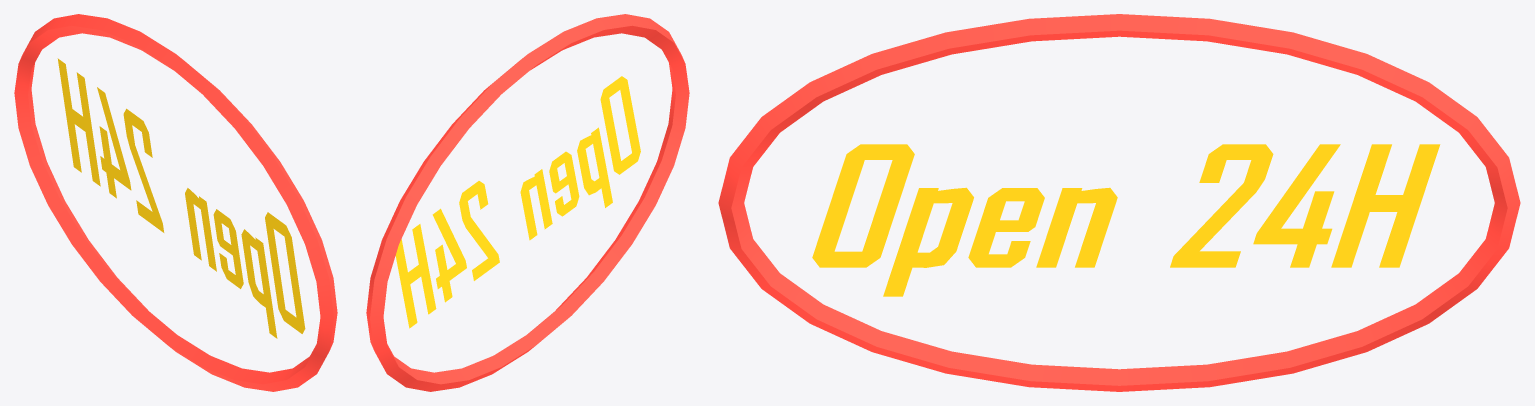
File: SM_shopNeon_03.glb
3 views of the same model, side by side, from view 1: azimuth 30°, elevation 25°; view 2: azimuth 150°, elevation 25°; view 3: azimuth 270°, elevation 25° (orthographic). The views are drawn at different scales.
Parts seen in each view (by area): view 1: SM_shopNeon_03; view 2: SM_shopNeon_03; view 3: SM_shopNeon_03.
Part boxes in pixels (box(x1,y1,x2,y2)): SM_shopNeon_03: box(14, 14, 337, 391); SM_shopNeon_03: box(366, 14, 689, 391); SM_shopNeon_03: box(718, 14, 1520, 391).
Bounding box in the file's own units: 0.0673 × 1.12 × 2.15.
1 material, 1 textured.
